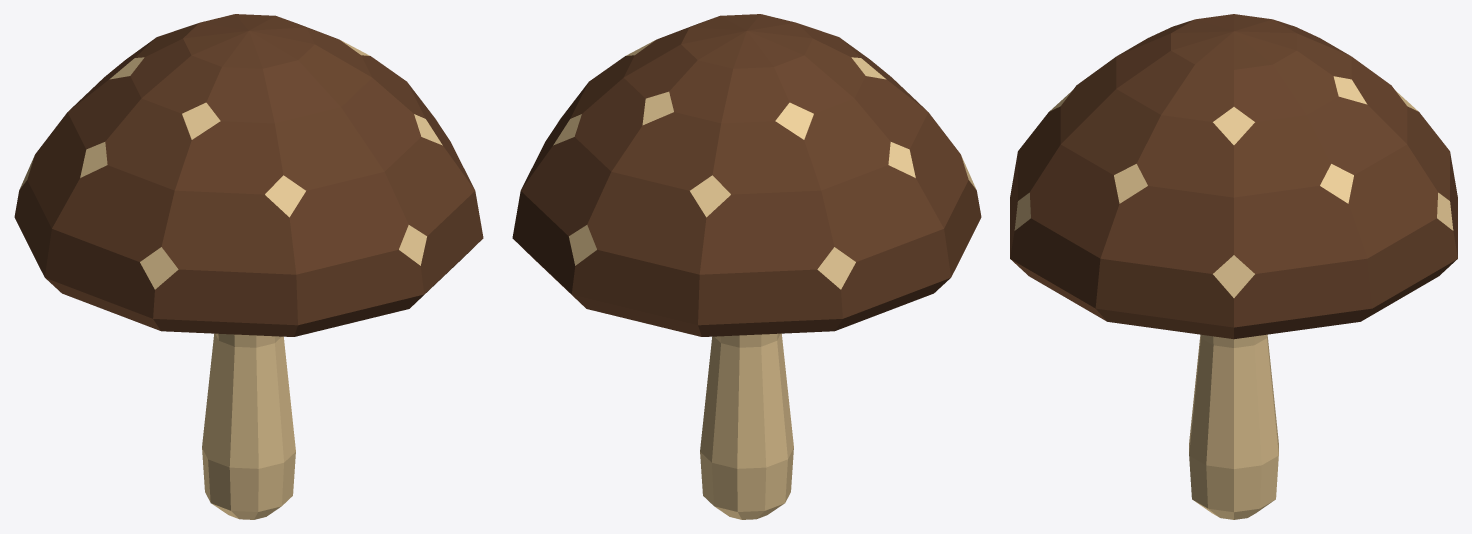
File: Top_2.fbx
3 views of the same model, side by side, from view 1: azimuth 30°, elevation 25°; view 2: azimuth 150°, elevation 25°; view 3: azimuth 270°, elevation 25° (orthographic).
Visible parts, largest first — view 1: M_Top 2; view 2: M_Top 2; view 3: M_Top 2.
Part boxes in pixels (left/top/right/bottom): M_Top 2: left=14, top=14, right=483, bottom=519; M_Top 2: left=512, top=14, right=981, bottom=519; M_Top 2: left=1010, top=14, right=1457, bottom=519.
Bounding box in the file's own units: 0.0856 × 0.0961 × 0.0814.
Materials: 1 (1 with a texture image).
